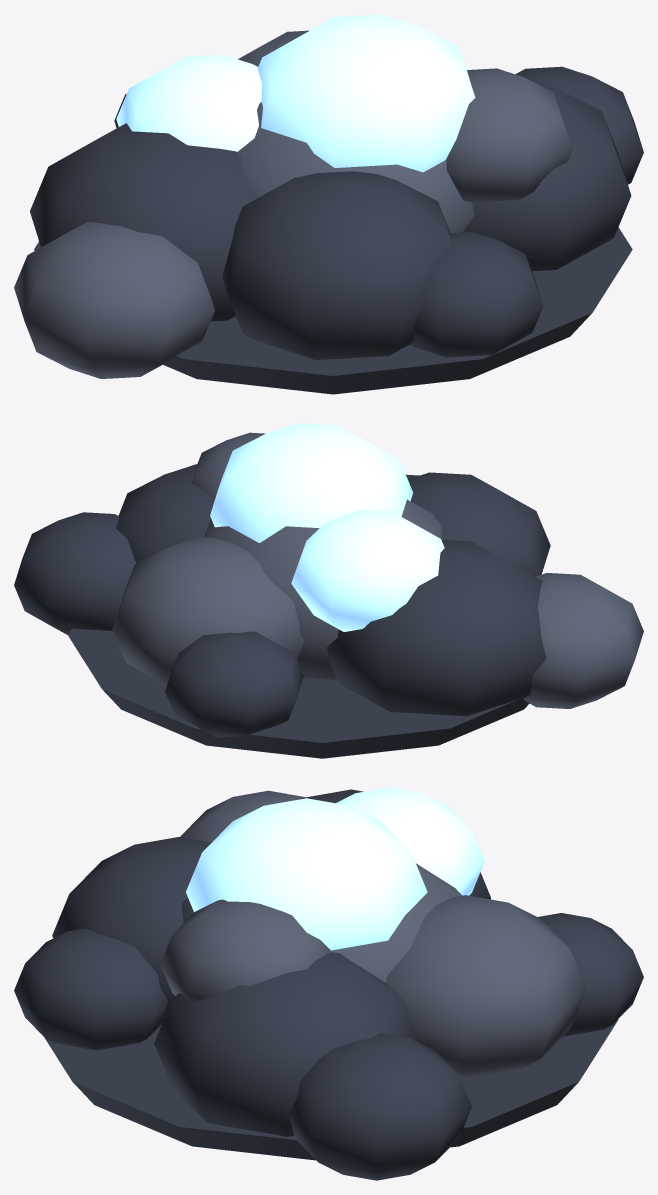
Rendered from storm-cloud.glb.
3 views of the same model, one above another, from view 1: azimuth 30°, elevation 25°; view 2: azimuth 150°, elevation 25°; view 3: azimuth 270°, elevation 25° (orthographic). The views are drawn at different scales.
Parts seen in each view (by area): view 1: Mesh_Puff4, Mesh_Puff7, Mesh_Puff6, Mesh_Puff2, Mesh_Underside, Mesh_Puff1, Mesh_Puff9, Mesh_Puff10, Mesh_Puff8, Mesh_Puff0, Mesh_Puff5, Mesh_Puff3; view 2: Mesh_Puff2, Mesh_Underside, Mesh_Puff3, Mesh_Puff7, Mesh_Puff8, Mesh_Puff6, Mesh_Puff11, Mesh_Puff5, Mesh_Puff4, Mesh_Puff0, Mesh_Puff1, Mesh_Puff9; view 3: Mesh_Puff1, Mesh_Puff3, Mesh_Puff7, Mesh_Puff5, Mesh_Underside, Mesh_Puff10, Mesh_Puff4, Mesh_Puff9, Mesh_Puff8, Mesh_Puff11, Mesh_Puff0, Mesh_Puff6 (+1 smaller).
Part boxes in pixels (bbox=[...]): Mesh_Puff4: bbox=[222, 171, 451, 360]; Mesh_Puff7: bbox=[257, 14, 475, 172]; Mesh_Puff6: bbox=[14, 221, 214, 378]; Mesh_Puff2: bbox=[30, 123, 258, 321]; Mesh_Underside: bbox=[34, 227, 632, 394]; Mesh_Puff1: bbox=[463, 80, 631, 271]; Mesh_Puff9: bbox=[446, 68, 572, 202]; Mesh_Puff10: bbox=[408, 232, 543, 357]; Mesh_Puff8: bbox=[116, 54, 261, 151]; Mesh_Puff0: bbox=[237, 102, 474, 233]; Mesh_Puff5: bbox=[515, 66, 643, 184]; Mesh_Puff3: bbox=[238, 30, 309, 66]; Mesh_Puff2: bbox=[326, 539, 546, 716]; Mesh_Underside: bbox=[68, 628, 529, 758]; Mesh_Puff3: bbox=[112, 537, 304, 684]; Mesh_Puff7: bbox=[210, 423, 413, 542]; Mesh_Puff8: bbox=[291, 510, 444, 631]; Mesh_Puff6: bbox=[523, 573, 643, 708]; Mesh_Puff11: bbox=[165, 631, 303, 737]; Mesh_Puff5: bbox=[14, 512, 135, 634]; Mesh_Puff4: bbox=[408, 472, 550, 576]; Mesh_Puff0: bbox=[204, 499, 442, 680]; Mesh_Puff1: bbox=[116, 464, 214, 563]; Mesh_Puff9: bbox=[191, 432, 265, 499]; Mesh_Puff1: bbox=[154, 952, 420, 1136]; Mesh_Puff3: bbox=[386, 895, 586, 1078]; Mesh_Puff7: bbox=[186, 798, 427, 950]; Mesh_Puff5: bbox=[288, 1033, 471, 1180]; Mesh_Underside: bbox=[44, 1019, 618, 1160]; Mesh_Puff10: bbox=[14, 928, 168, 1050]; Mesh_Puff4: bbox=[52, 837, 211, 1017]; Mesh_Puff9: bbox=[160, 899, 330, 1002]; Mesh_Puff8: bbox=[336, 787, 484, 895]; Mesh_Puff11: bbox=[538, 913, 643, 1036]; Mesh_Puff0: bbox=[181, 863, 461, 982]; Mesh_Puff6: bbox=[180, 790, 304, 842].
Size of the model in its own units: 11.8 by 4.54 by 9.9.
